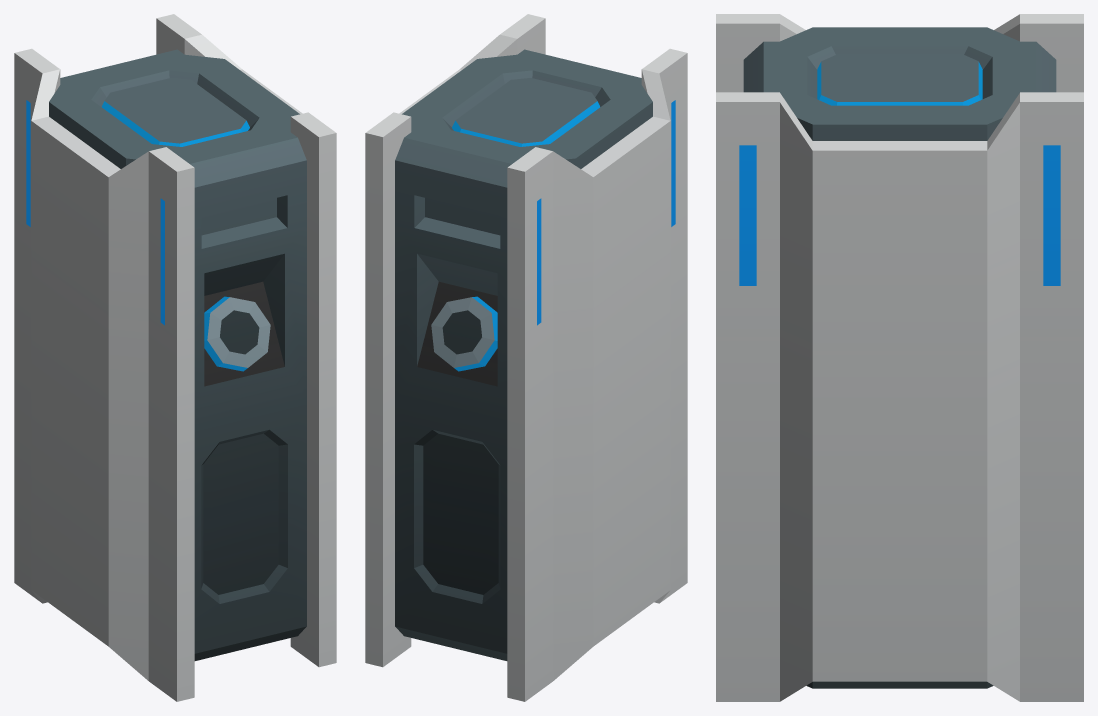
Rendered from Battery_007.glb.
3 views of the same model, side by side, from view 1: azimuth 30°, elevation 25°; view 2: azimuth 150°, elevation 25°; view 3: azimuth 270°, elevation 25° (orthographic). The views are drawn at different scales.
Visible parts, largest first — view 1: Battery_007; view 2: Battery_007; view 3: Battery_007.
Part boxes in pixels (x1,y1,x2,y2): Battery_007: [14, 14, 336, 701]; Battery_007: [365, 14, 687, 701]; Battery_007: [716, 14, 1083, 701].
Size of the model in its own units: 0.3749 by 0.8999 by 0.4999.
Materials: 2 (2 with a texture image).
